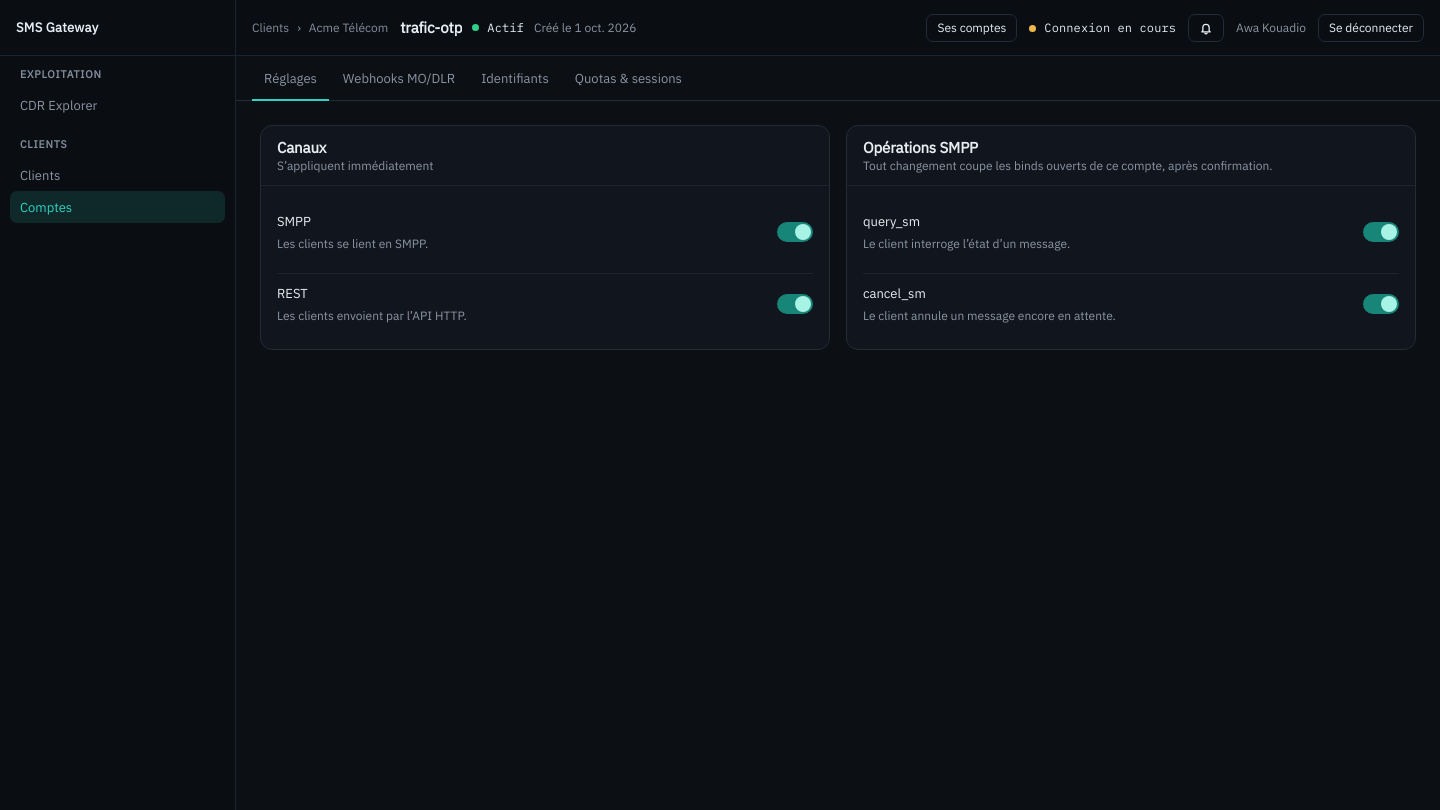
Test: the account screen › warns that a rotated secret breaks deliveries, then shows the new one once
The image size is (1440, 810).
Click the tab "Webhooks MO/DLR": (399, 78) [331,56,467,100]
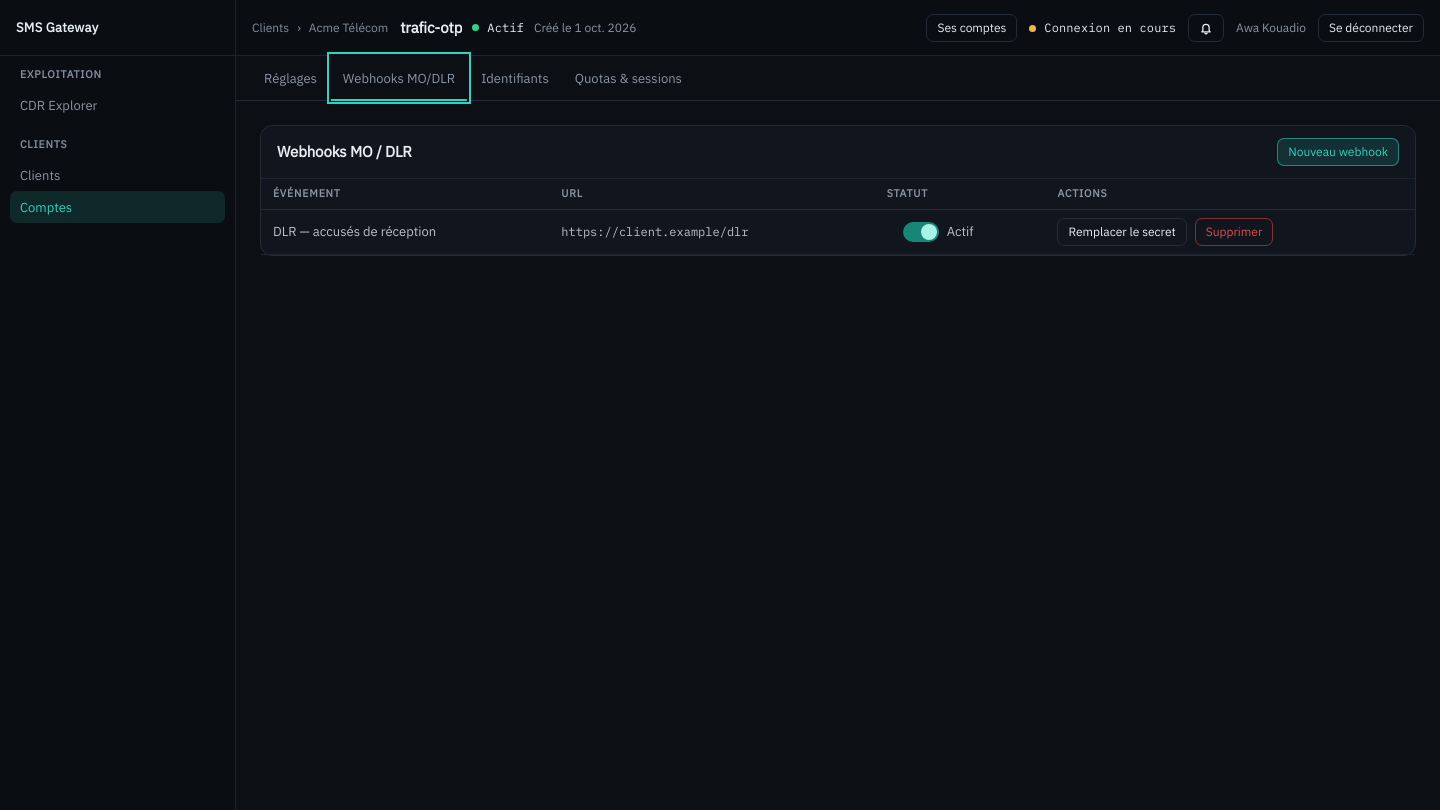
Click the button with aria-label "Remplacer le secret du webhook DLR": (1122, 232) [1058,218,1187,246]
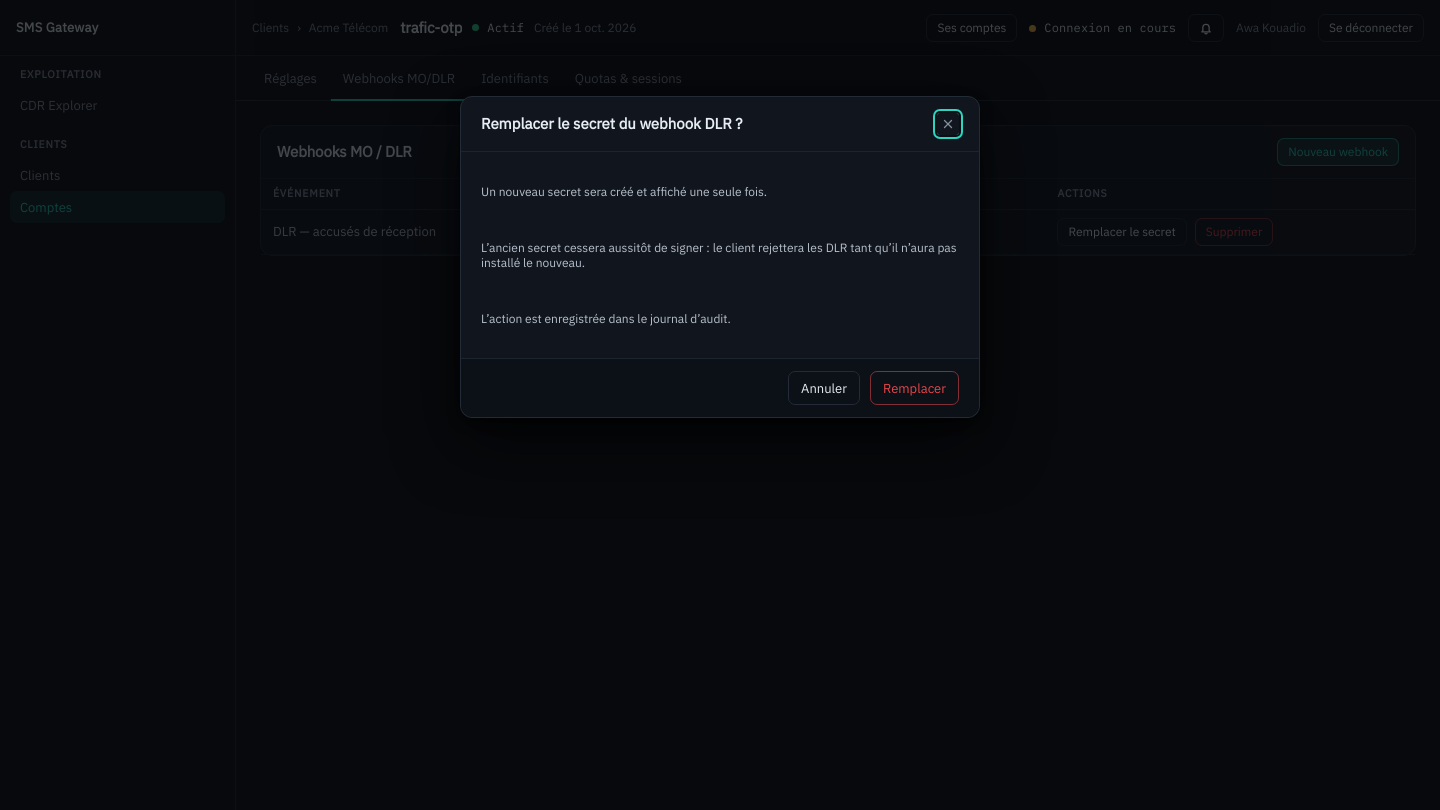
Result: the dialog "Remplacer le secret du webhook DLR ?" shows "L’ancien secret cessera aussitôt de signer : le client rejettera les DLR tant qu’il n’aura pas installé le nouveau." at [460,96,980,418]
Click the button "Remplacer": (914, 388) [870,371,959,405]
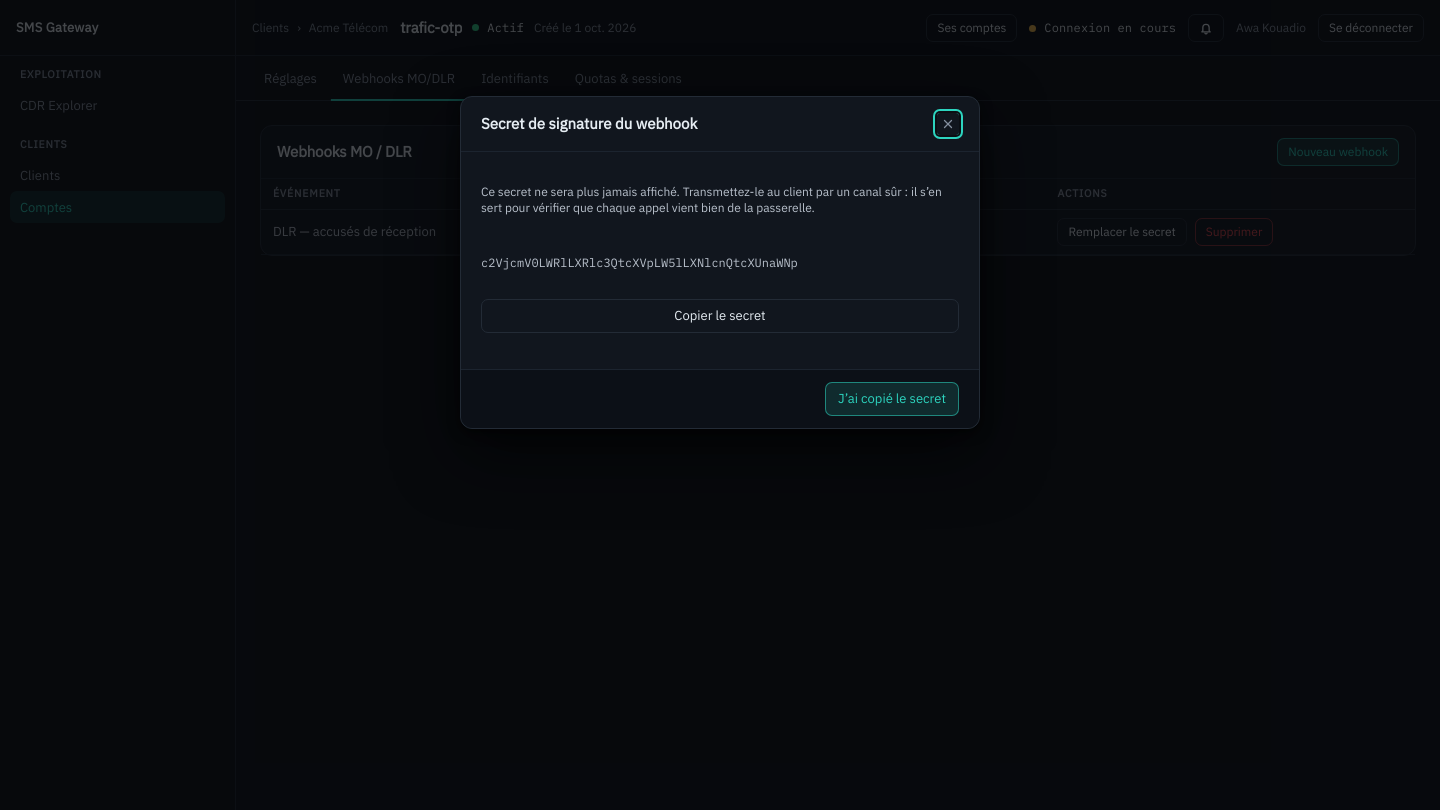
Result: the dialog "Secret de signature du webhook" shows "c2VjcmV0LWRlLXRlc3QtcXVpLW5lLXNlcnQtcXUnaWNp" at [481,255,798,270]
Click the button "J’ai copié le secret": (892, 399) [825,382,959,416]
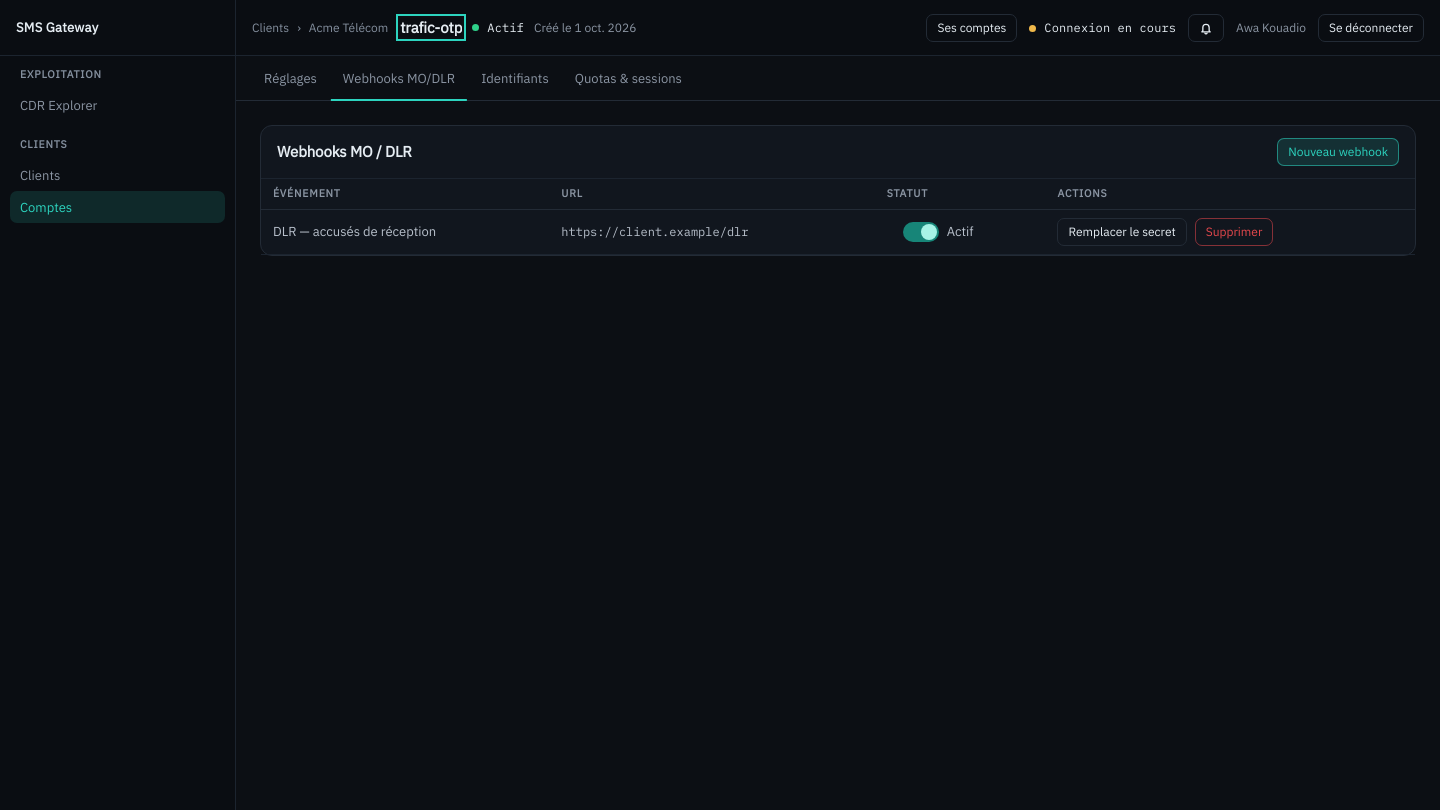
Result: the dialog is gone
Result: the text "c2VjcmV0LWRlLXRlc3QtcXVpLW5lLXNlcnQtcXUnaWNp" is gone
